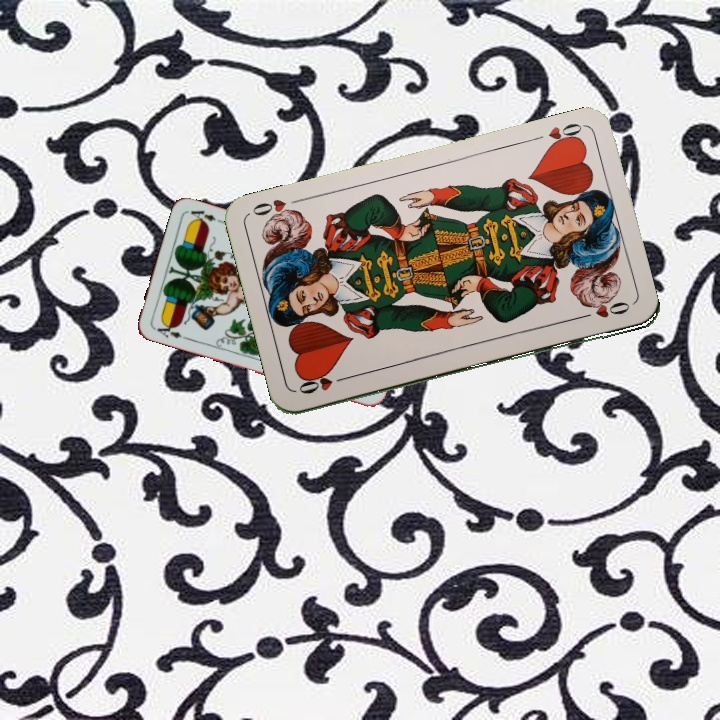EA: (150, 318, 190, 342)
HO: (294, 371, 352, 397), (543, 119, 586, 151)
